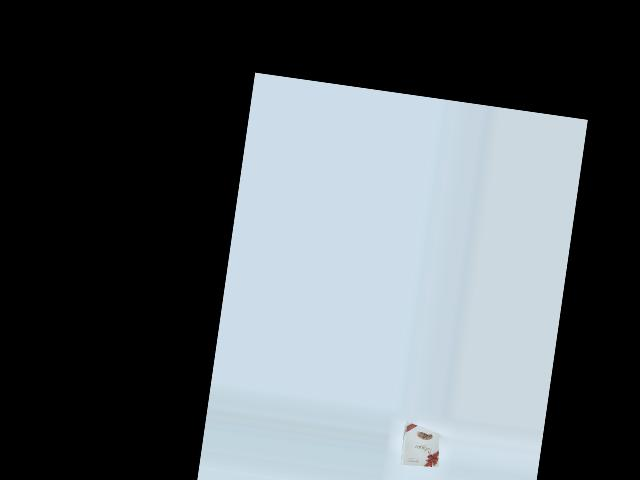chocolate: (391, 418, 445, 469)
